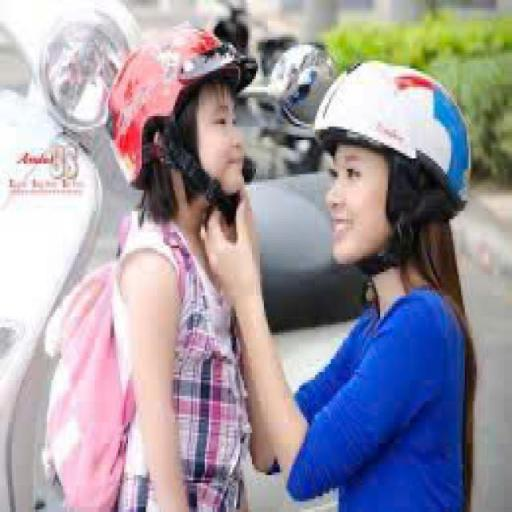with helmet: (310, 54, 474, 207), (106, 26, 250, 180)
